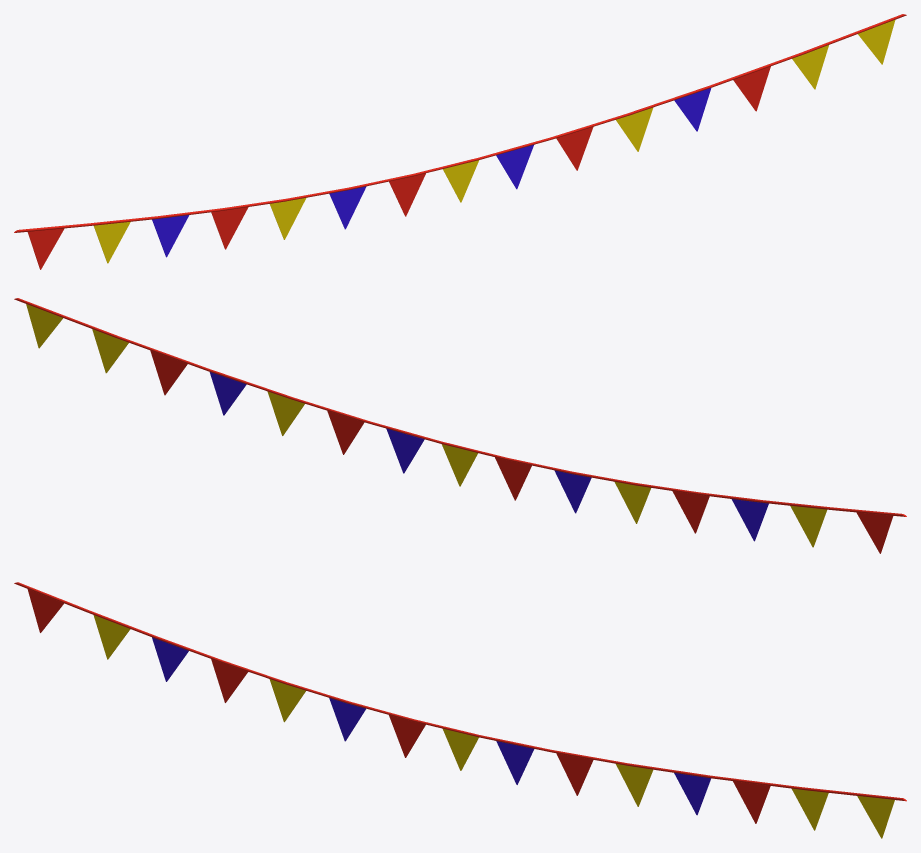
File: Flags.fbx
The picture shows the model from 3 angles, top to bottom: view 1: azimuth 30°, elevation 25°; view 2: azimuth 150°, elevation 25°; view 3: azimuth 330°, elevation 25°; orthographic projection.
Parts seen in each view (by area): view 1: FlagSegment; view 2: FlagSegment; view 3: FlagSegment.
Part boxes in pixels (x1,y1,x2,y2): FlagSegment: (14,14,906,269); FlagSegment: (14,298,906,553); FlagSegment: (14,582,906,838).
Size of the model in its own units: 818 by 70.89 by 2.
